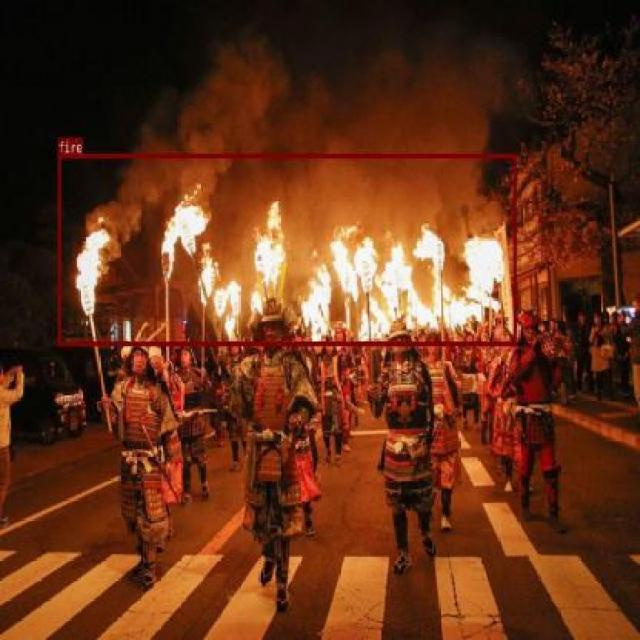fire: (58, 152, 516, 346)
